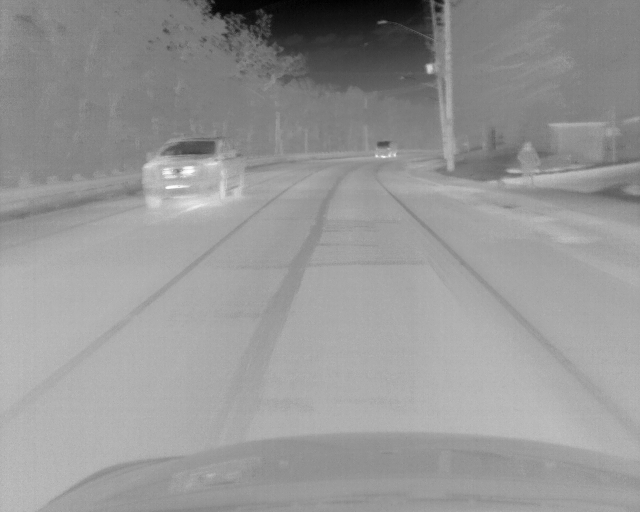car: (138, 134, 245, 208), (374, 141, 398, 158)
people: (516, 138, 541, 189)
